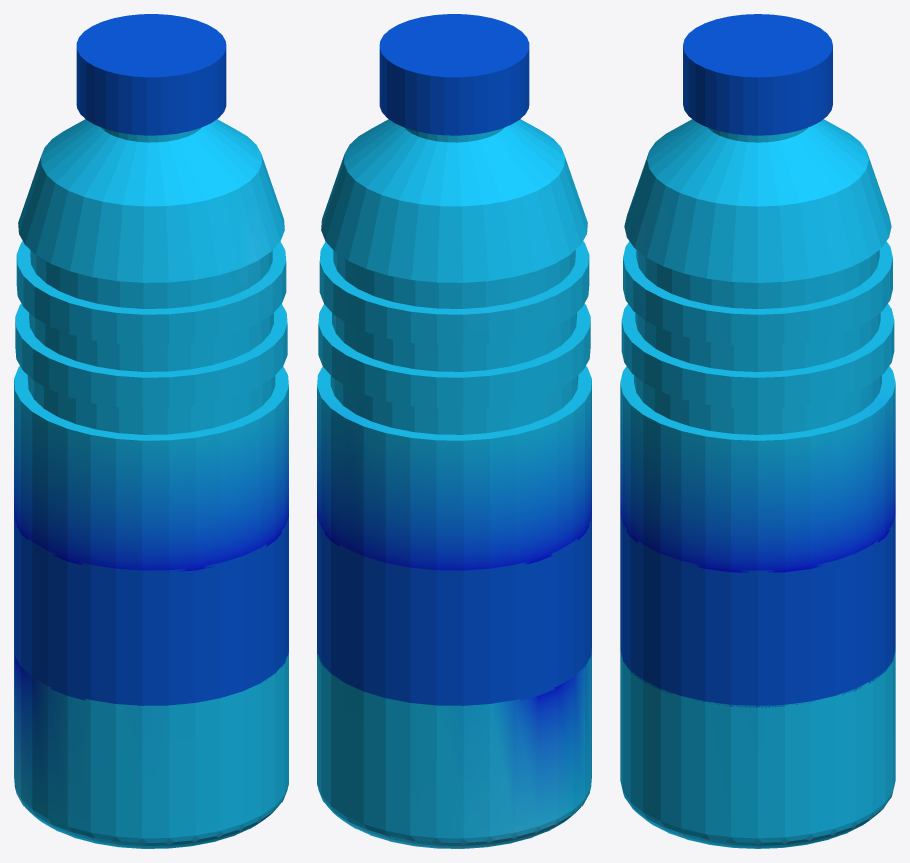
Rendered from M_Waterbottle.fbx.
3 views of the same model, side by side, from view 1: azimuth 30°, elevation 25°; view 2: azimuth 150°, elevation 25°; view 3: azimuth 270°, elevation 25° (orthographic).
Visible parts, largest first — view 1: flesje; view 2: flesje; view 3: flesje.
Boxes of the visible parts, x1,y1,x2,y2 form: flesje: (14,14,288,848); flesje: (317,14,591,848); flesje: (620,14,895,848).
Bounding box in the file's own units: 200 × 602 × 200.
